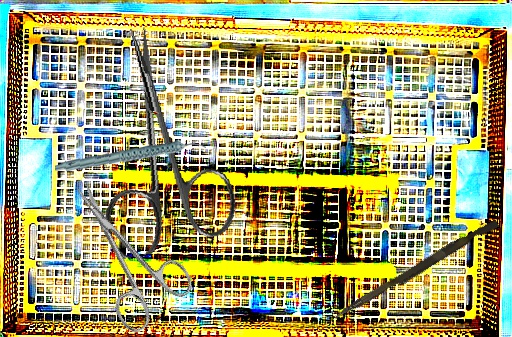Handpiece: (54, 131, 207, 184)
Iris Scissors: (69, 15, 243, 262), (48, 161, 201, 337)
Pusher: (332, 215, 500, 326)
